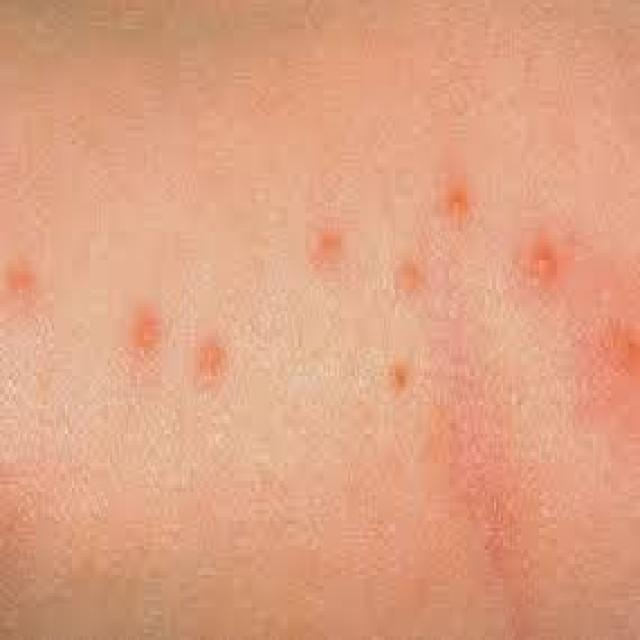tahta-kurusu: (366, 329, 454, 453), (162, 303, 251, 413), (101, 271, 161, 385), (419, 168, 491, 256), (293, 178, 341, 288), (602, 291, 640, 405), (16, 239, 54, 345), (378, 237, 431, 307), (537, 222, 564, 330)
